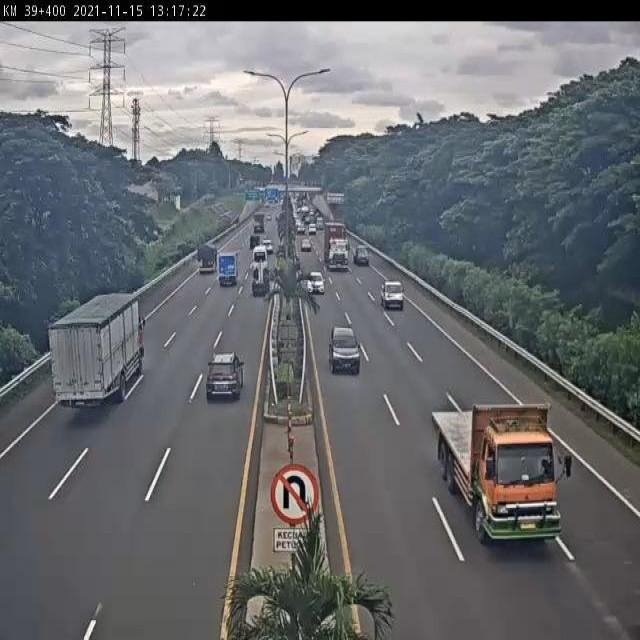car: (203, 351, 247, 404), (327, 324, 362, 373), (379, 277, 405, 312), (306, 268, 327, 296)
truck-l-: (434, 405, 568, 547), (51, 292, 146, 409)
truck-s-: (248, 262, 274, 302), (214, 252, 239, 292), (194, 241, 219, 276)
